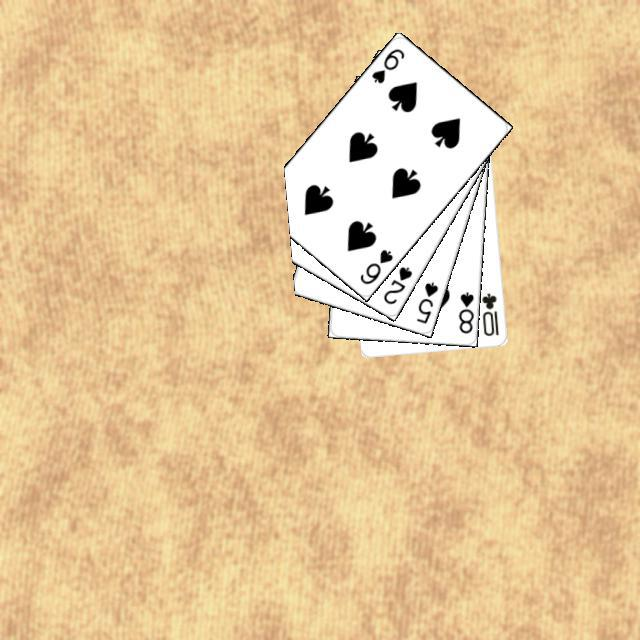10c: (477, 288, 500, 338)
2s: (378, 261, 414, 306)
5s: (411, 277, 440, 325)
6s: (355, 244, 395, 286), (367, 43, 406, 85)
8s: (454, 287, 475, 335)
